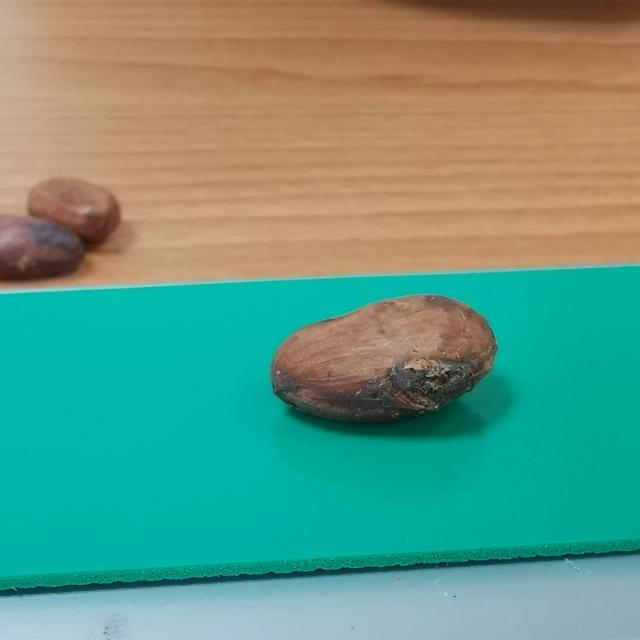Fine_cocoabeans: (264, 264, 554, 483)
